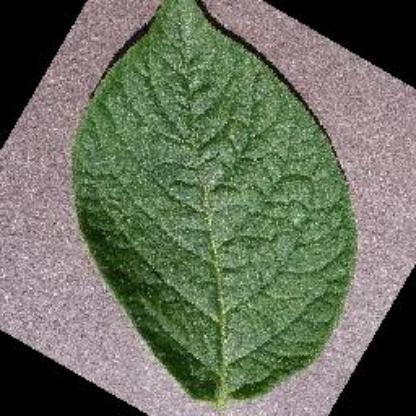Healthy-plant: (66, 0, 358, 410)
